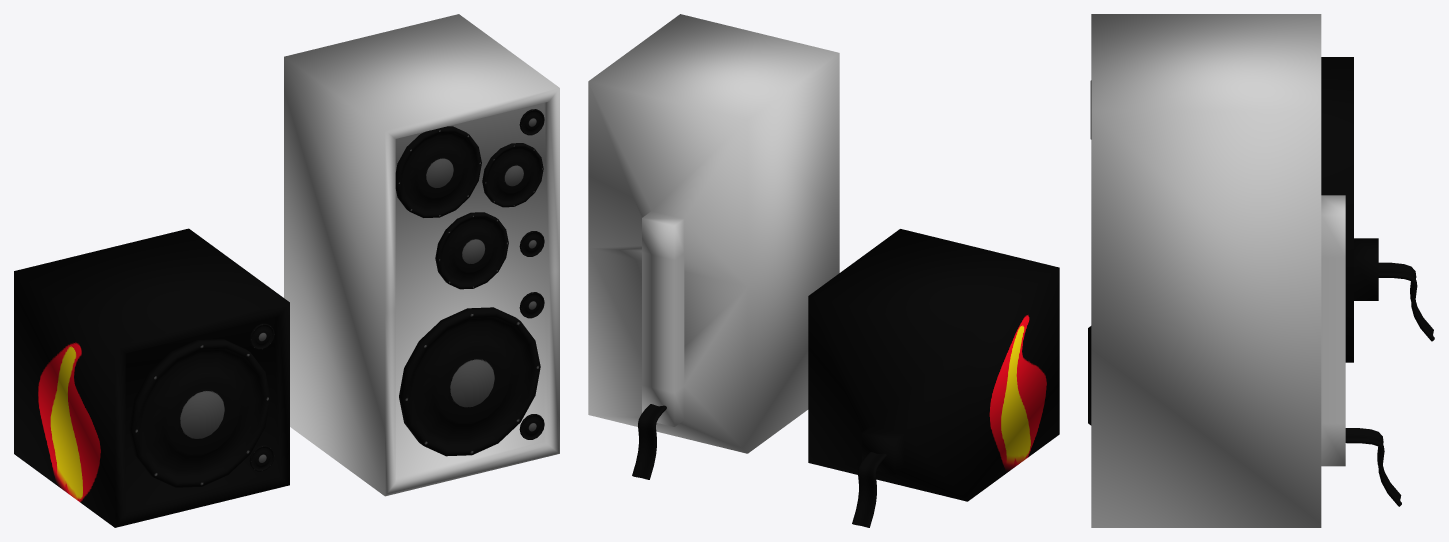
Rendered from Speakers.fbx.
3 views of the same model, side by side, from view 1: azimuth 30°, elevation 25°; view 2: azimuth 150°, elevation 25°; view 3: azimuth 270°, elevation 25° (orthographic). The views are drawn at different scales.
Parts seen in each view (by area): view 1: LargeSpeaker, SmallSpeaker; view 2: LargeSpeaker, SmallSpeaker; view 3: LargeSpeaker, SmallSpeaker.
Part boxes in pixels (x1,y1,x2,y2): LargeSpeaker: (284,14,559,496); SmallSpeaker: (14,228,289,527); LargeSpeaker: (588,14,839,479); SmallSpeaker: (808,229,1059,527); LargeSpeaker: (1088,14,1401,527); SmallSpeaker: (1321,57,1434,362).
Bounding box in the file's own units: 492 × 425 × 302.
